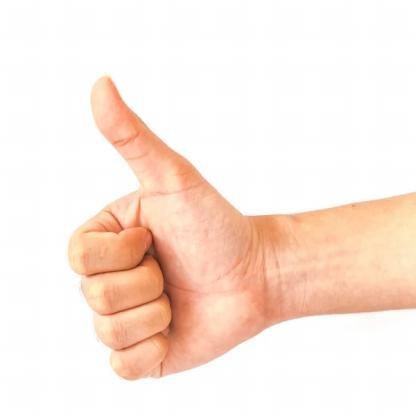thumb_up: (68, 69, 274, 384)
